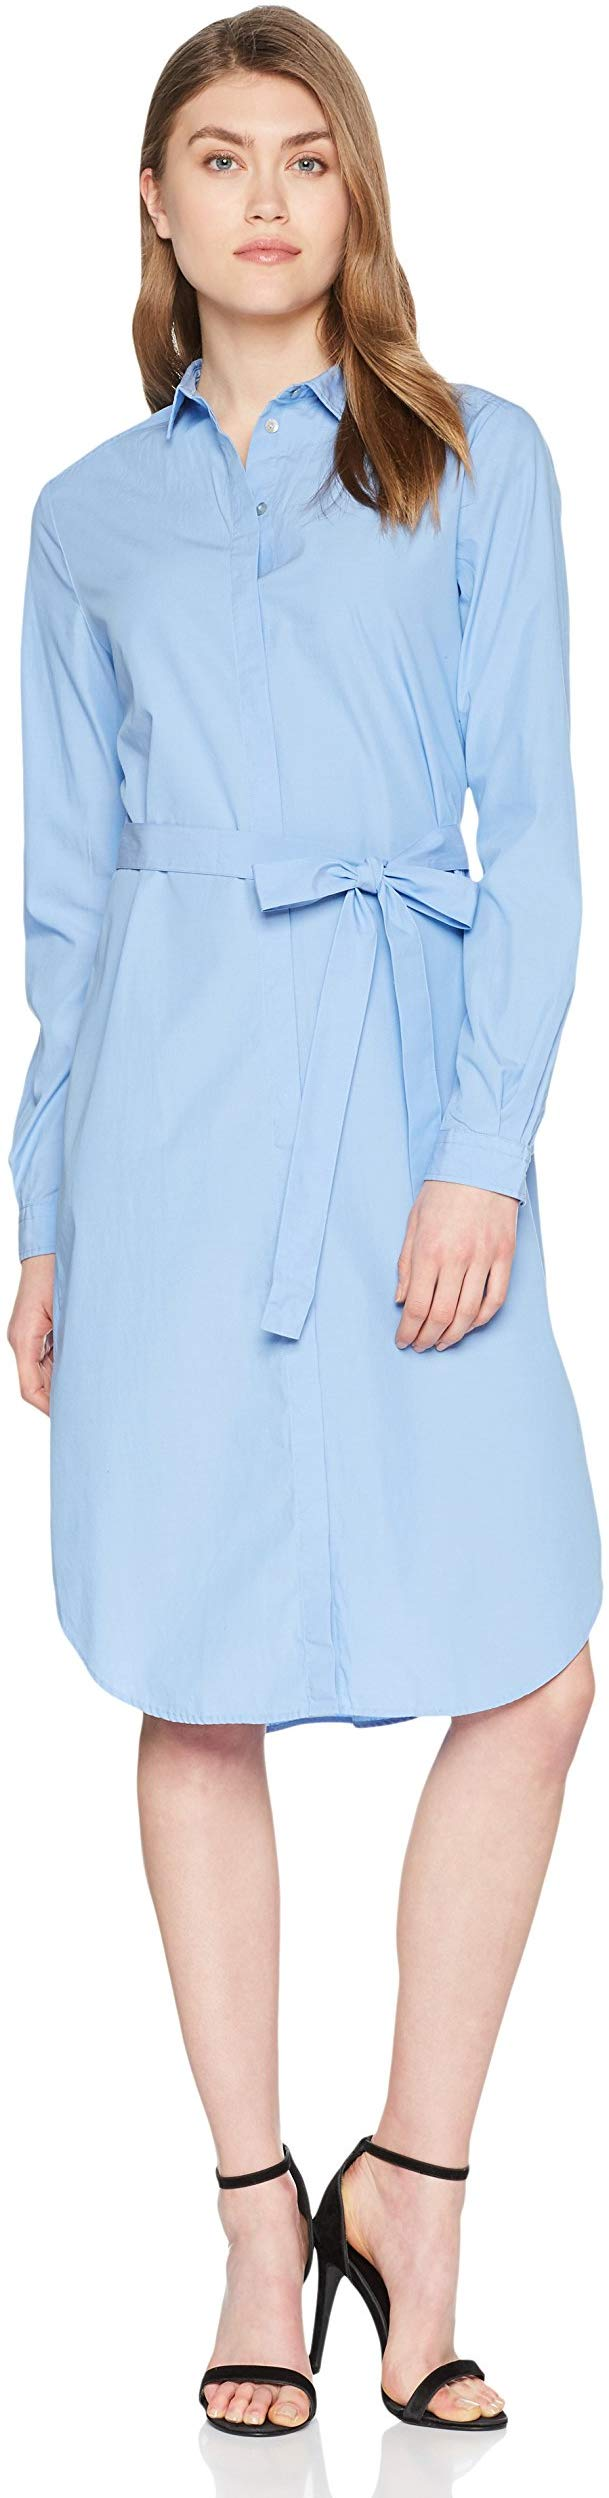C_dress: (33, 365, 607, 1698)
